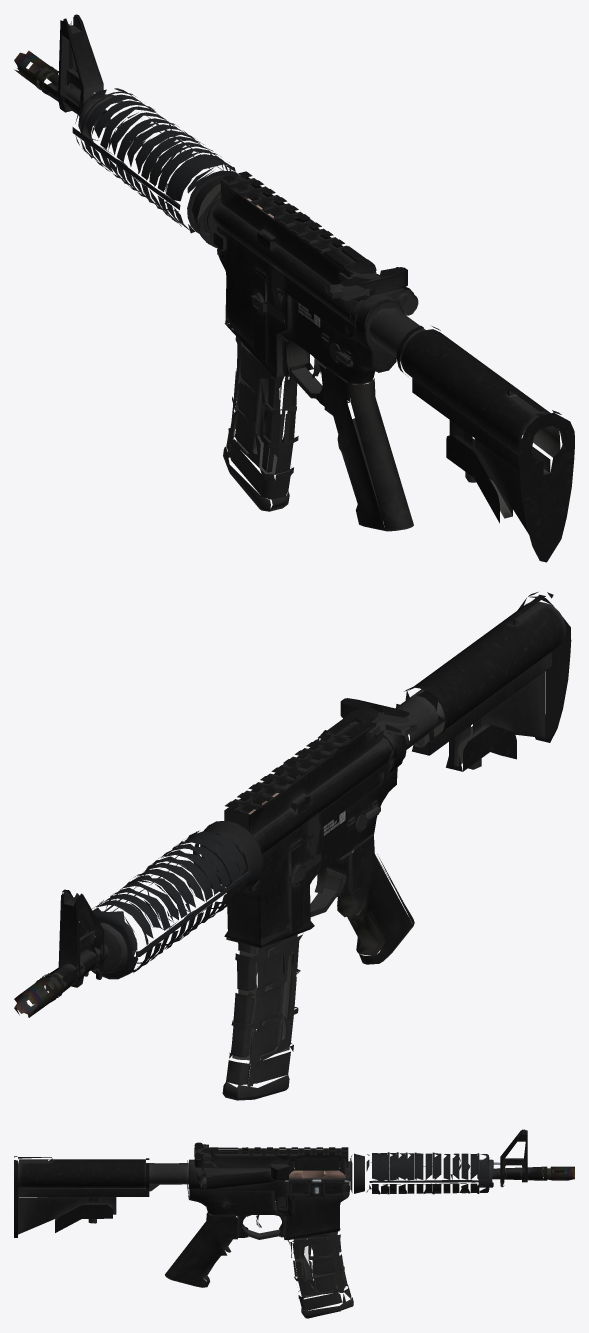
The picture shows the model from 3 angles, top to bottom: view 1: azimuth 30°, elevation 25°; view 2: azimuth 150°, elevation 25°; view 3: azimuth 270°, elevation 25°; orthographic projection. The views are drawn at different scales.
Visible parts, largest first — view 1: merged; view 2: merged; view 3: merged.
Boxes of the visible parts, box(x1,y1,x2,y2) form: merged: box(14, 14, 574, 562); merged: box(14, 592, 571, 1100); merged: box(14, 1129, 574, 1318).
Size of the model in its own units: 0.6802 by 2.47 by 6.79.
2 materials, 2 textured.
